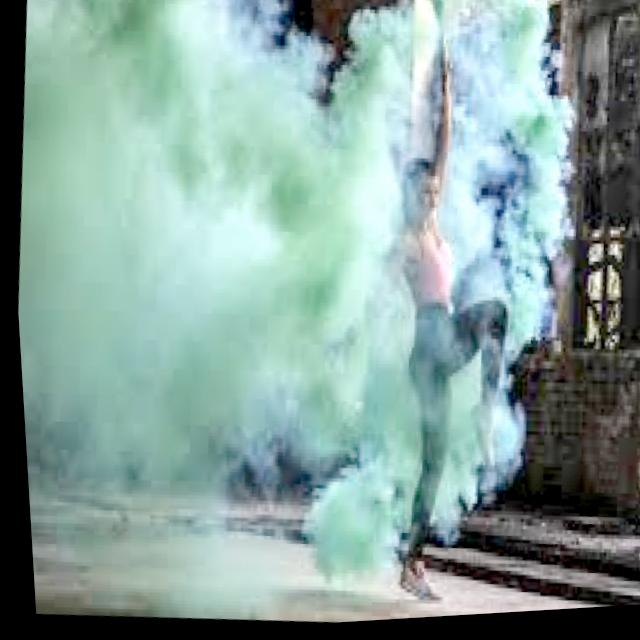no_helmet: (0, 0, 418, 547)
